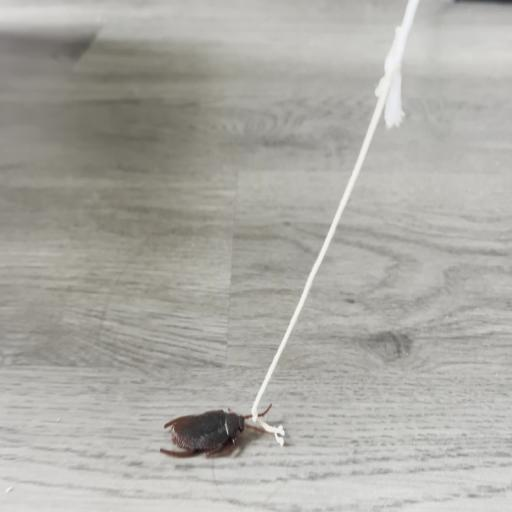cockroach: (160, 402, 272, 458)
